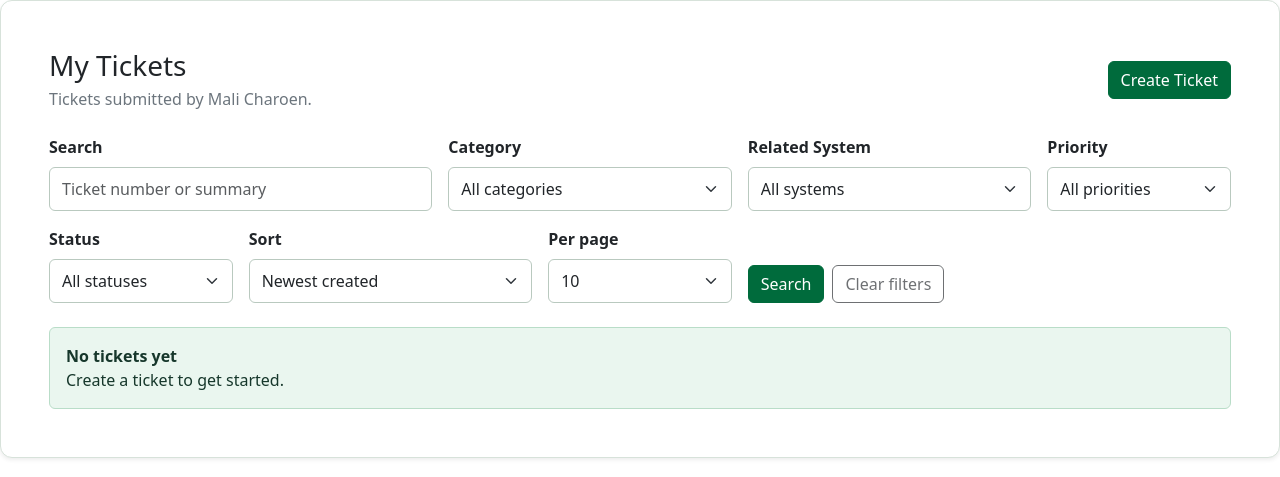
Test case: MyTickets › distinguishes no tickets from no matching tickets
expect the text "No tickets yet" is shown: met, box [66,345,177,367]
In the field labelled "Search": (241, 189) [49,167,432,211], type "vpn"
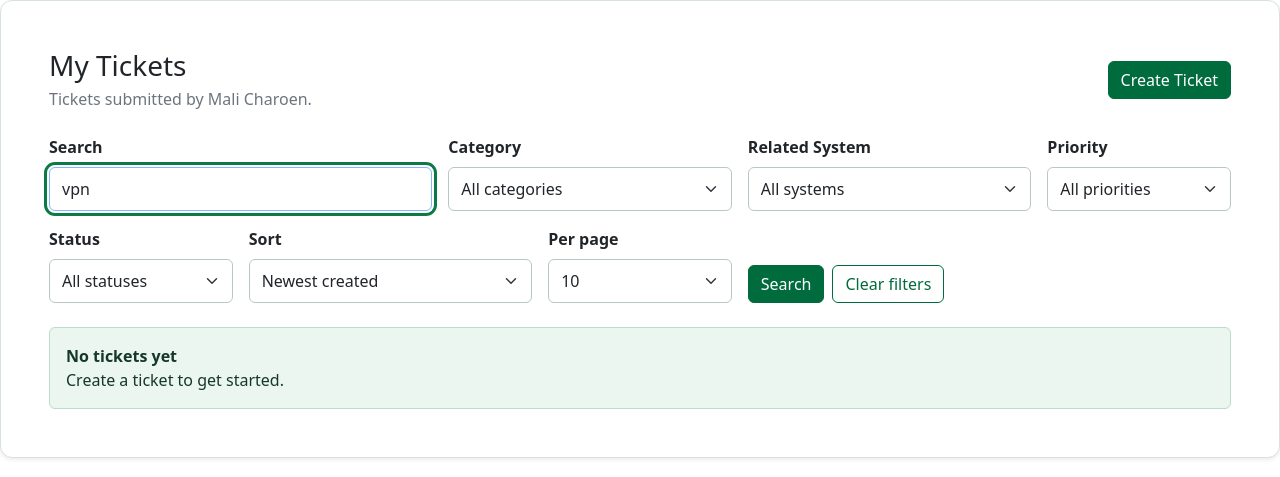
Click the button "Search": (786, 284) [748,265,824,303]
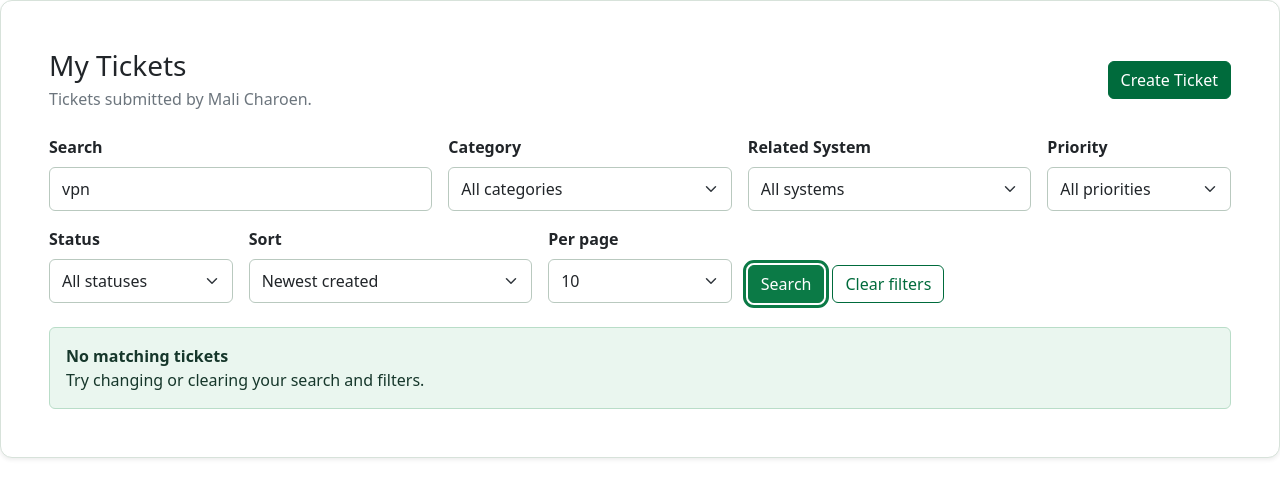
expect the text "No matching tickets" is shown: met, box [66,345,228,367]
